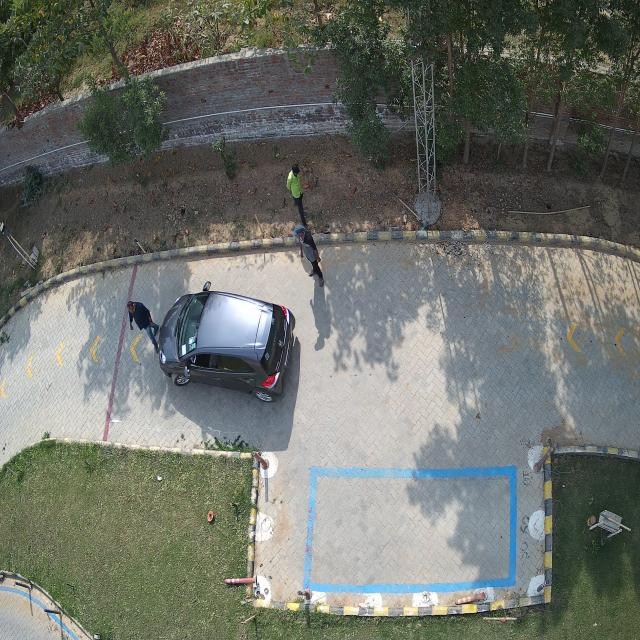car: (155, 282, 296, 402)
